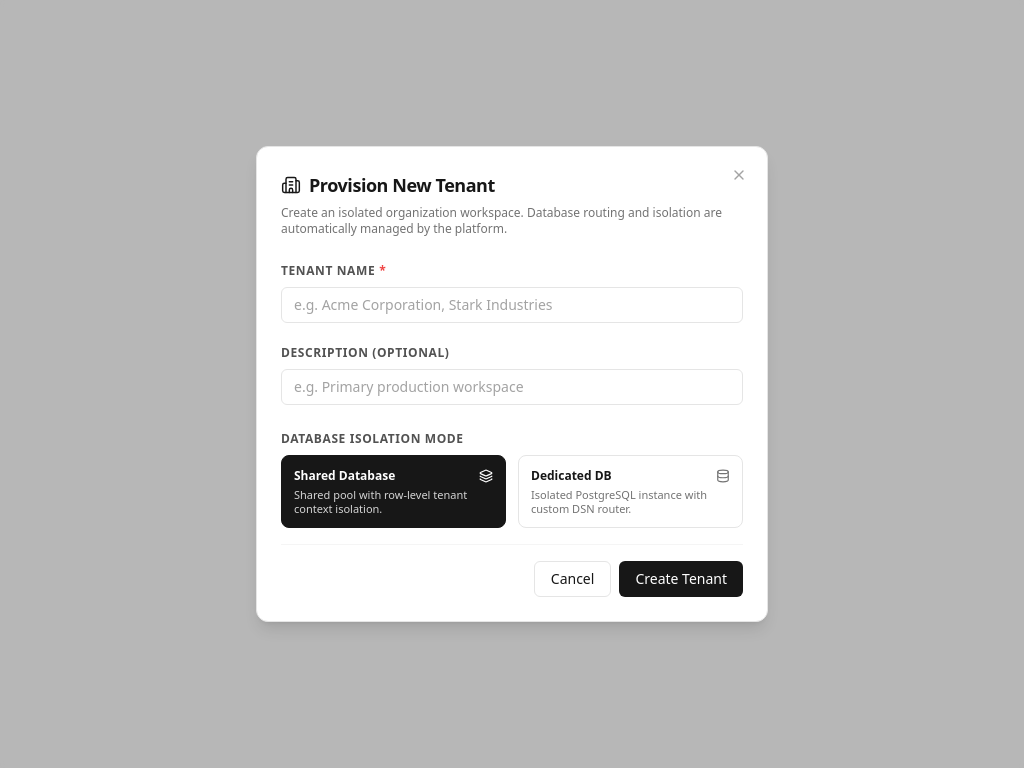
Test: Tenant Module › CreateTenantDialog › allows selecting Dedicated DB with DSN while strictly denying connection pool and SSL mode choices
This screenshot has width=1024, height=768.
Switch to Dedicated DB
Click the text "Dedicated DB" at (571, 476), box 531,468 -> 612,484
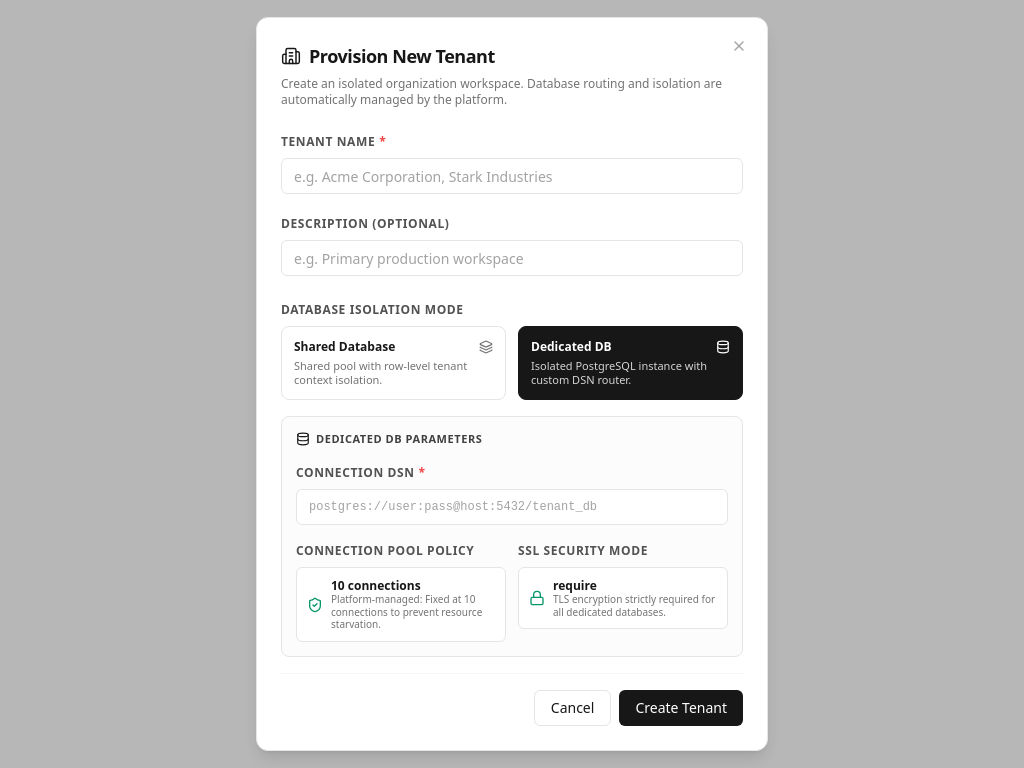
Expected: the field labelled "Connection DSN*" is shown, 296,489 -> 728,525
Expected: the element with test id "connection-pool-managed" is shown, 296,567 -> 506,642
Expected: the text "10 connections" is shown, 331,577 -> 421,594
